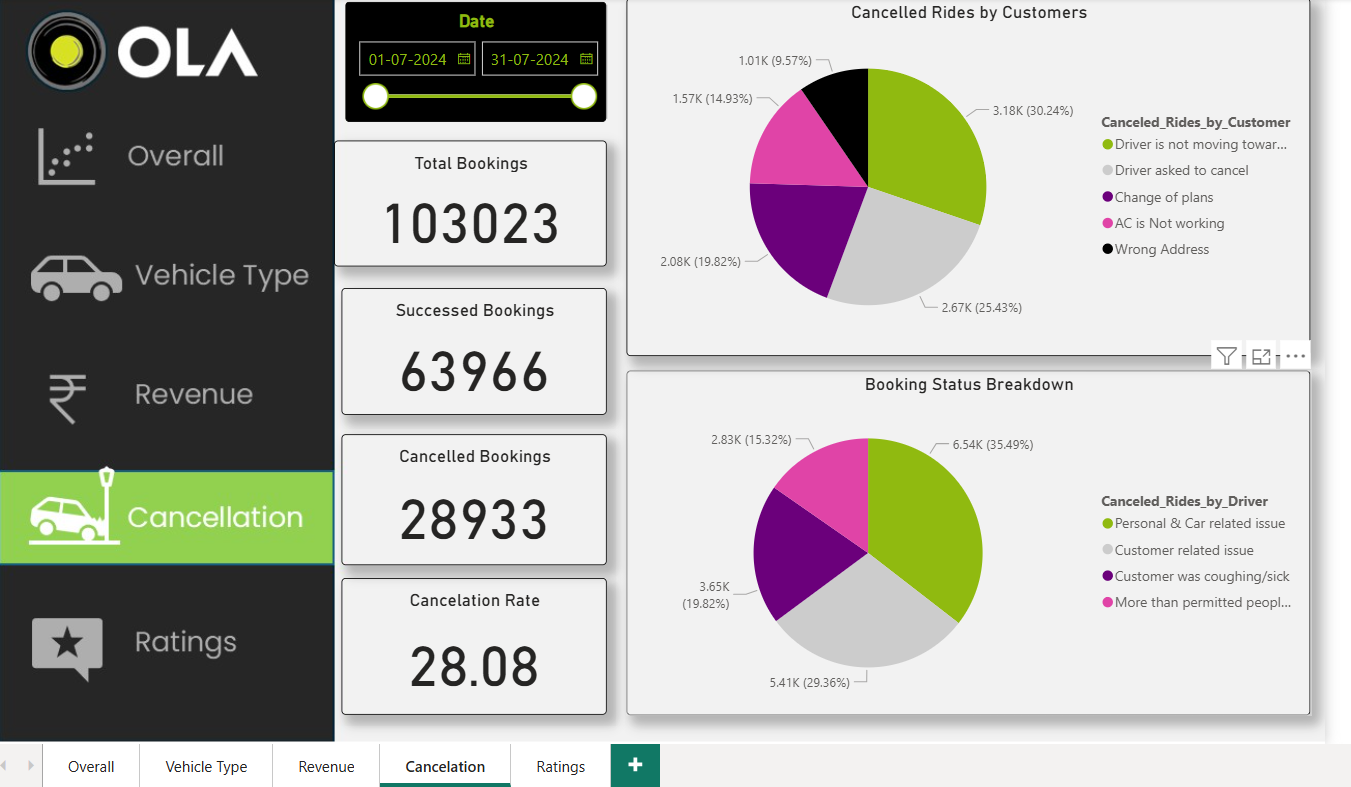

The dashboard page shown, as its layout file describes it:
{"tool":"powerbi","page":{"name":"Cancelation","canvas":[1280,720],"ordinal":3},"visuals":[{"type":"actionButton","box":[0,586.3,323.3,84.5],"z":0},{"type":"actionButton","box":[0,345,323.3,92.9],"z":1000},{"type":"actionButton","box":[0,113.4,323.3,92.9],"z":2000},{"type":"pieChart","title":"Cancelled Rides by Customers","fields":{"Category":["July.Canceled_Rides_by_Customer"],"Y":["CountNonNull(July.Canceled_Rides_by_Customer)"]},"box":[606,0,660.3,345.5],"z":3000},{"type":"pieChart","title":"Booking Status Breakdown","fields":{"Category":["July.Canceled_Rides_by_Driver"],"Y":["CountNonNull(July.Canceled_Rides_by_Driver)"]},"box":[606,359.4,660.3,333],"z":4000},{"type":"slicer","title":"Date","fields":{"Values":["July.Date"]},"box":[334.4,4.2,252.2,115.6],"z":5000},{"type":"card","title":"Total Bookings","fields":{"Values":["Count(July.Booking_ID)"]},"box":[323.2,137.9,263.3,121.2],"z":6000},{"type":"card","title":"succeed Bookings","fields":{"Values":["Count(July.Booking_ID)"]},"box":[330.2,280,256.3,122.6],"z":7000},{"type":"card","title":"Cancelled Bookings","fields":{"Values":["Count(July.Booking_ID)"]},"box":[330.2,420.7,256.3,126.8],"z":8000},{"type":"card","title":"Cancellation Rate","fields":{"Values":["July.CanceledPercentage"]},"box":[330.2,560,256.3,132.3],"z":9000}]}

Visuals, with their boxes on the page's 1280x720 design canvas (x1, y1, x2, y2). These are canvas units, not pixel positions in the 1351x787 screenshot, which may show the page scaled, cropped or inside an application window:
actionButton: BBox(0, 586, 323, 671)
actionButton: BBox(0, 345, 323, 438)
actionButton: BBox(0, 113, 323, 206)
"Cancelled Rides by Customers" pieChart: BBox(606, 0, 1266, 346)
"Booking Status Breakdown" pieChart: BBox(606, 359, 1266, 692)
"Date" slicer: BBox(334, 4, 587, 120)
"Total Bookings" card: BBox(323, 138, 586, 259)
"succeed Bookings" card: BBox(330, 280, 586, 403)
"Cancelled Bookings" card: BBox(330, 421, 586, 548)
"Cancellation Rate" card: BBox(330, 560, 586, 692)
